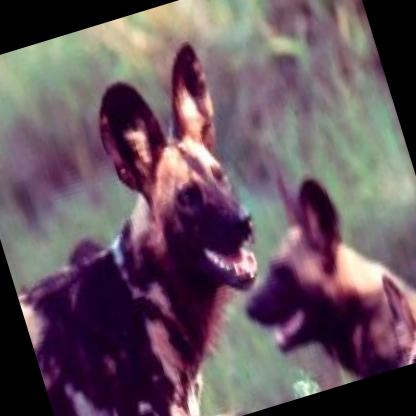African_hunting_dog: (0, 34, 303, 416), (207, 145, 416, 403), (327, 250, 416, 376)
